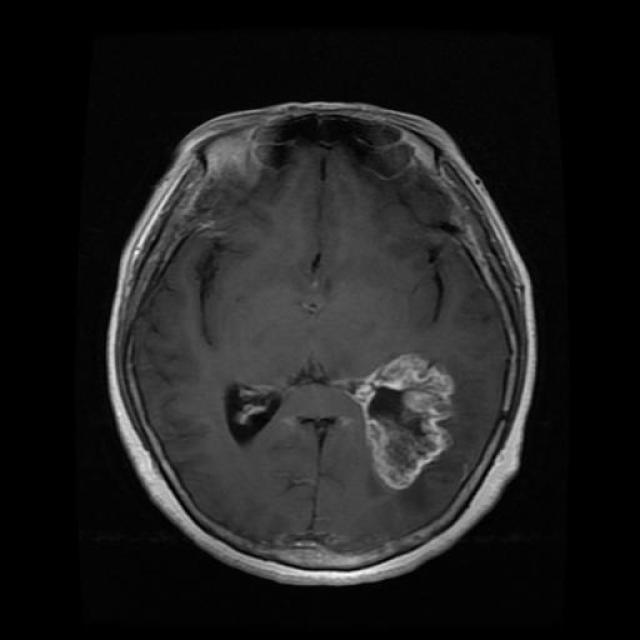brain_tumor: (348, 354, 454, 489)
